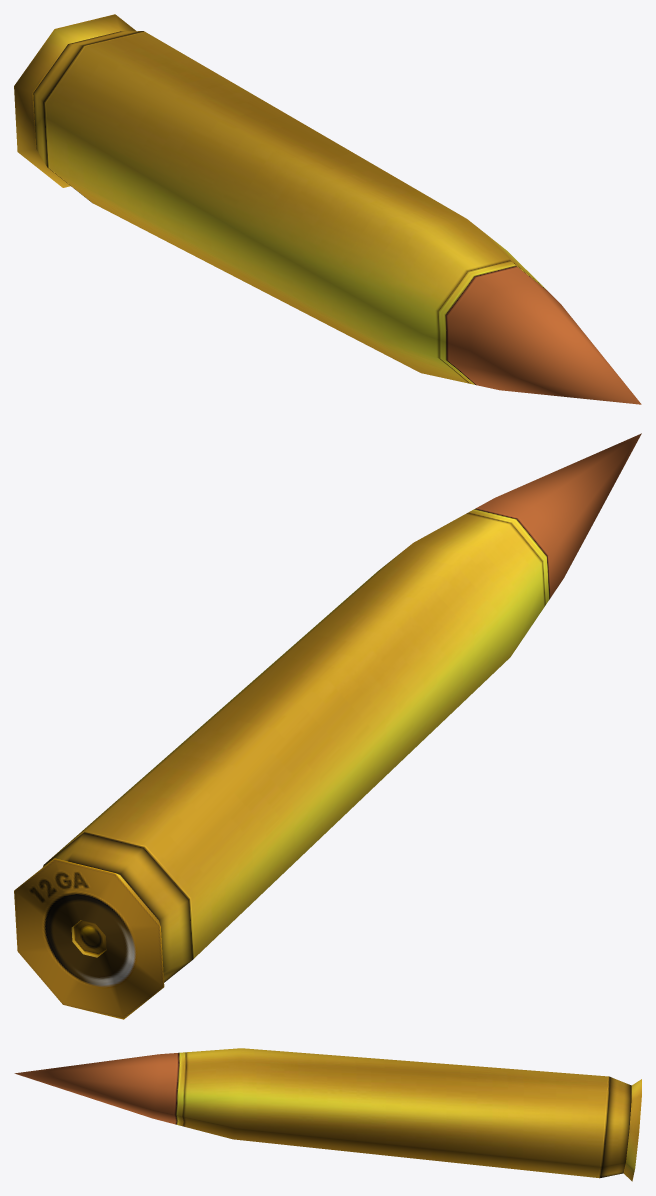
File: Bullet.fbx
3 views of the same model, one above another, from view 1: azimuth 30°, elevation 25°; view 2: azimuth 150°, elevation 25°; view 3: azimuth 270°, elevation 25° (orthographic). The views are drawn at different scales.
Parts seen in each view (by area): view 1: lod0_M1; view 2: lod0_M1; view 3: lod0_M1.
Boxes of the visible parts, box(x1,y1,x2,y2) form: lod0_M1: box(14, 14, 641, 404); lod0_M1: box(14, 433, 641, 1019); lod0_M1: box(14, 1048, 641, 1181).
Bounding box in the file's own units: 9.1 × 12.38 × 59.81.
